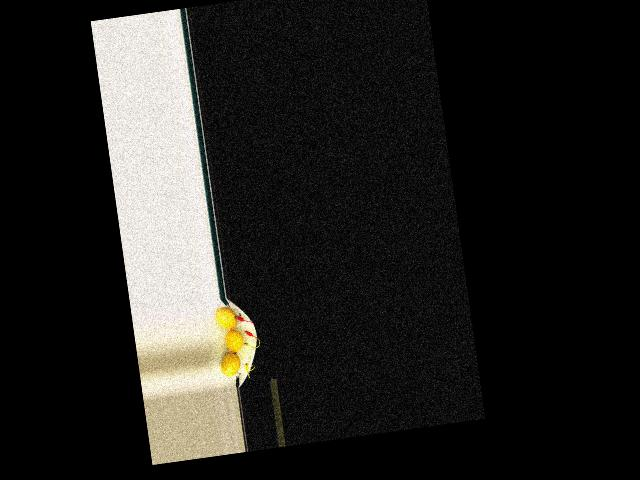lemon: (216, 304, 241, 330)
